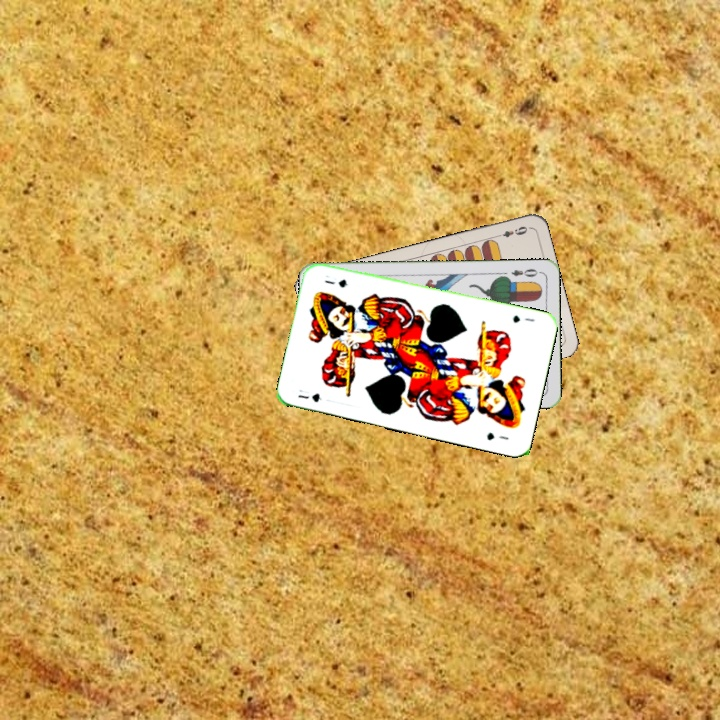E9: (492, 222, 532, 240)
EO: (507, 265, 543, 279)
GU: (294, 389, 324, 405), (509, 311, 537, 325)
